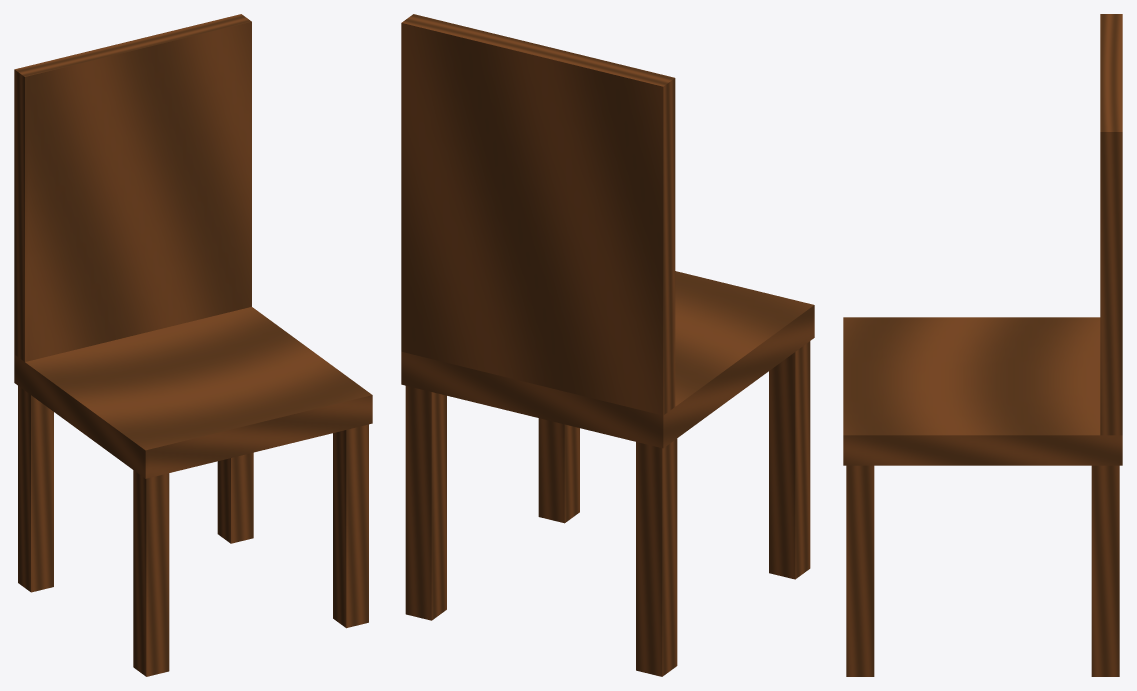
Rendered from example_chair@1.0.glb.
3 views of the same model, side by side, from view 1: azimuth 30°, elevation 25°; view 2: azimuth 150°, elevation 25°; view 3: azimuth 270°, elevation 25° (orthographic). The views are drawn at different scales.
Visible parts, largest first — view 1: back, seat, leg, leg.002, leg.001, leg.003; view 2: back, seat, leg.001, leg.003, leg, leg.002; view 3: seat, back, leg.002, leg.003.
Part boxes in pixels (x1,y1,x2,y2): back: (14,14,251,361); seat: (14,307,372,478); leg: (133,470,169,676); leg.002: (333,424,368,628); leg.001: (18,386,53,592); leg.003: (217,452,253,543); back: (401,14,675,415); seat: (401,271,814,448); leg.001: (636,438,677,676); leg.003: (405,386,446,620); leg: (769,341,810,579); leg.002: (538,418,579,523); seat: (843,317,1122,465); back: (1100,14,1122,435); leg.002: (846,465,874,676); leg.003: (1091,465,1119,676).
Bounding box in the file's own units: 0.5 × 1.08 × 0.5.
6 materials, 6 textured.
